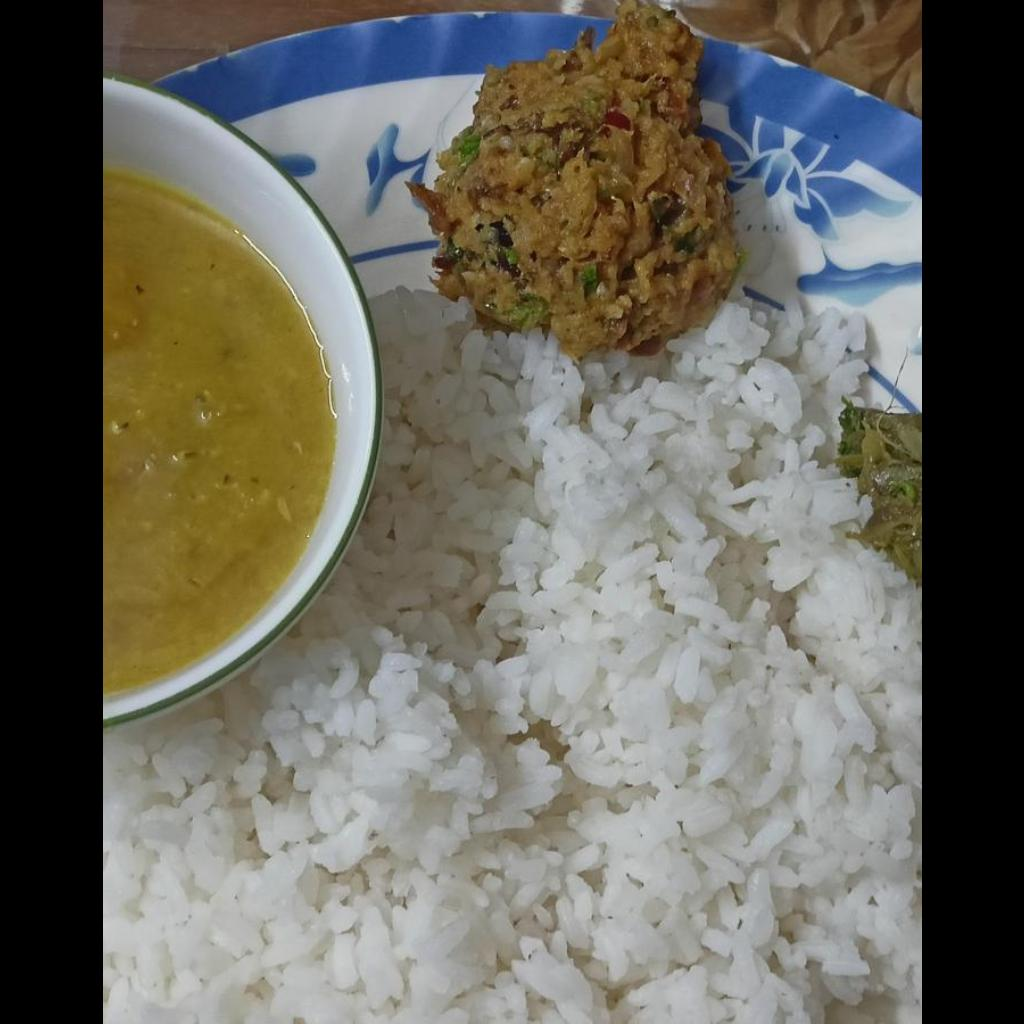daal: (102, 167, 330, 695)
rice: (102, 295, 920, 1023)
vorta: (435, 2, 741, 357)
